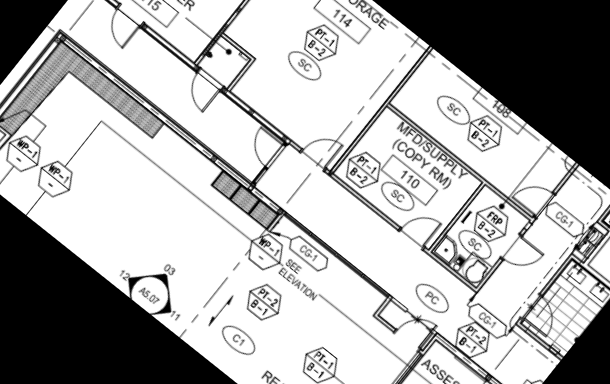door: (389, 303, 442, 357), (517, 290, 568, 340), (297, 124, 348, 173), (511, 171, 560, 220), (177, 70, 225, 118), (97, 6, 145, 53), (398, 203, 445, 251), (242, 123, 288, 169), (502, 232, 547, 277)
